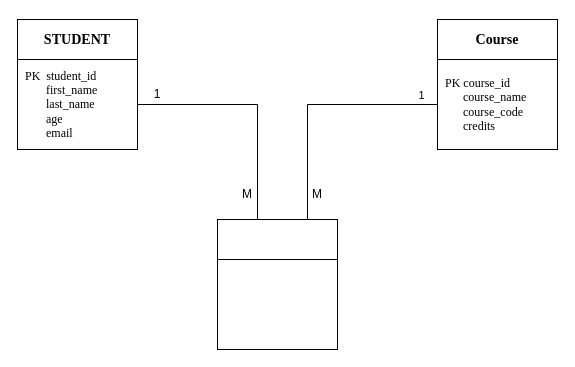
Image size: 575x367. Some labels were removed from this diagram. Each missing label, with the centre of its shape:
"ENROLLMENT" goes at point (277, 239).
"PK enrollment_id FK sutdent_id FK course_id enrollment_date" goes at point (277, 304).
